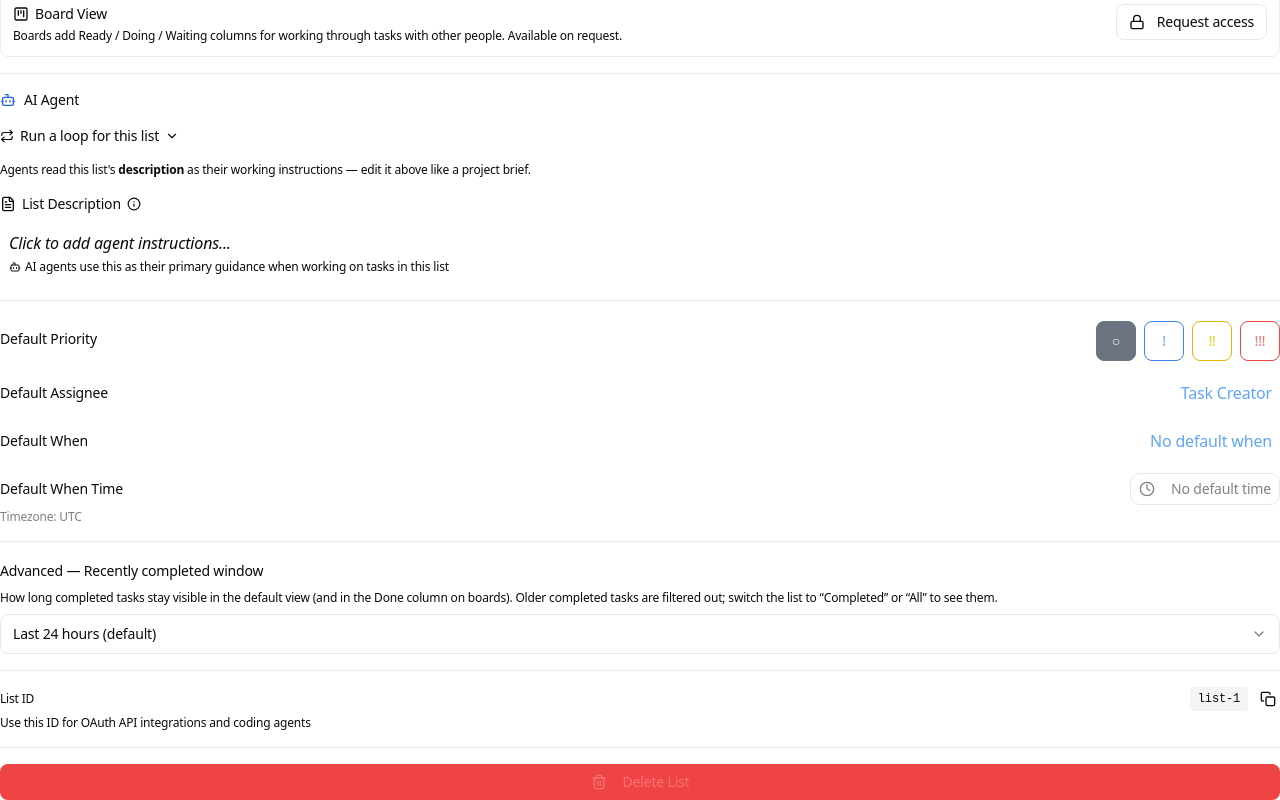
Test: ListAdminSettings - Delete List Modal › Delete Confirmation Modal › should display correct list name in confirmation modal
Click the button "Delete List".
click(640, 782)  # box [0,764,1279,799]
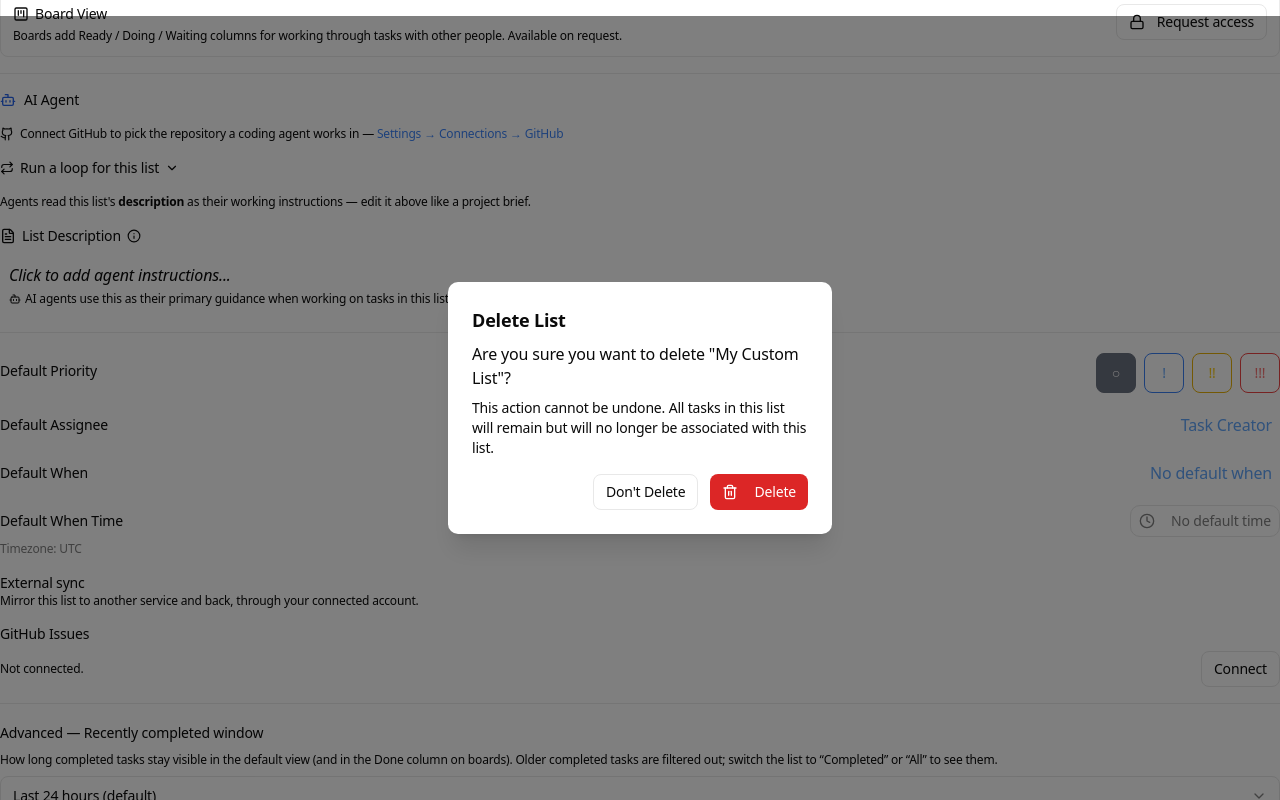
expect the element with class "fixed" shows "My Custom List": met, box [472,343,798,389]
